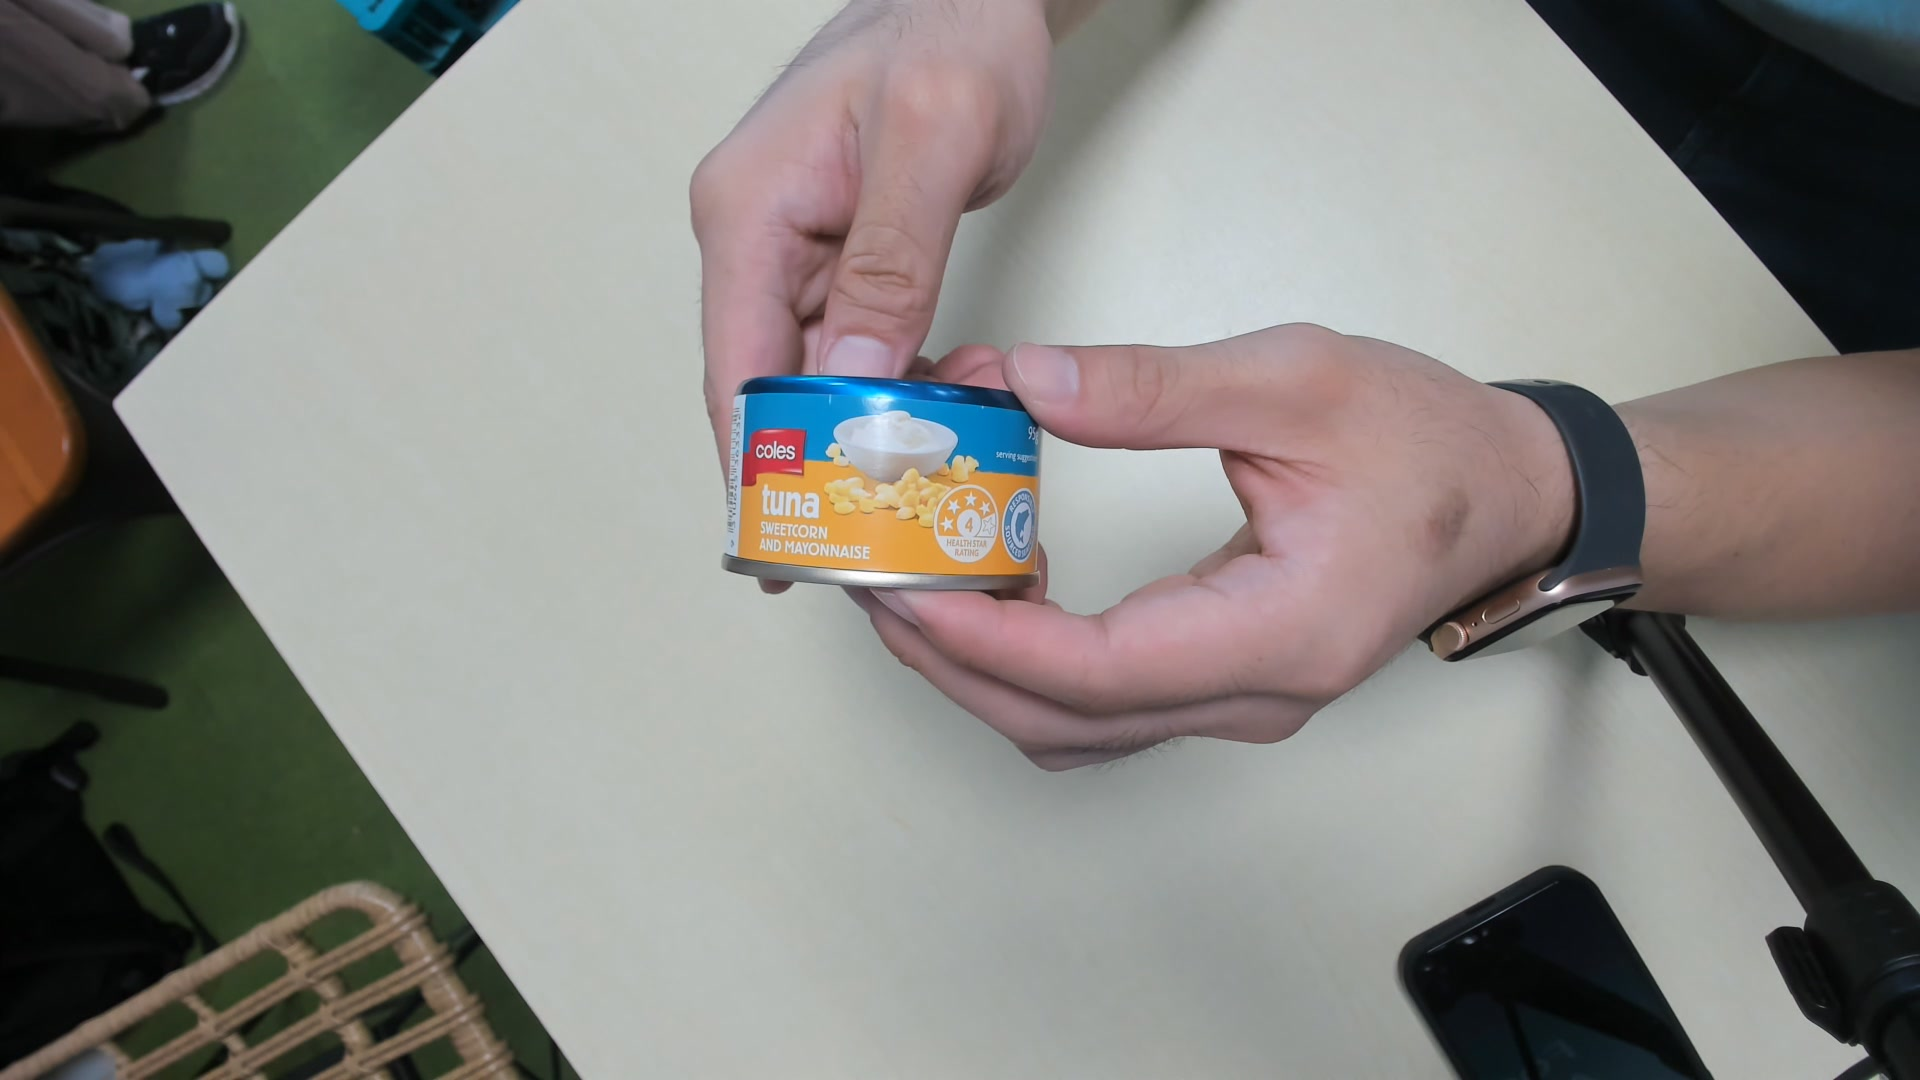OtherSauceDressing_0-99g_NonHalal_NonHealthy: (717, 368, 1046, 591)
